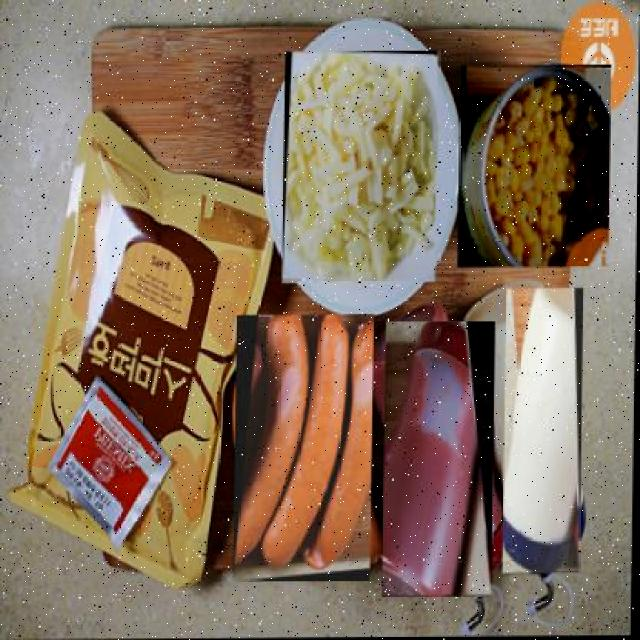Cheese: (282, 49, 440, 282)
Corn: (458, 63, 613, 268)
Ketchup: (384, 320, 498, 598)
Mayonnaise: (504, 288, 585, 574)
Sausage: (235, 313, 376, 582)
